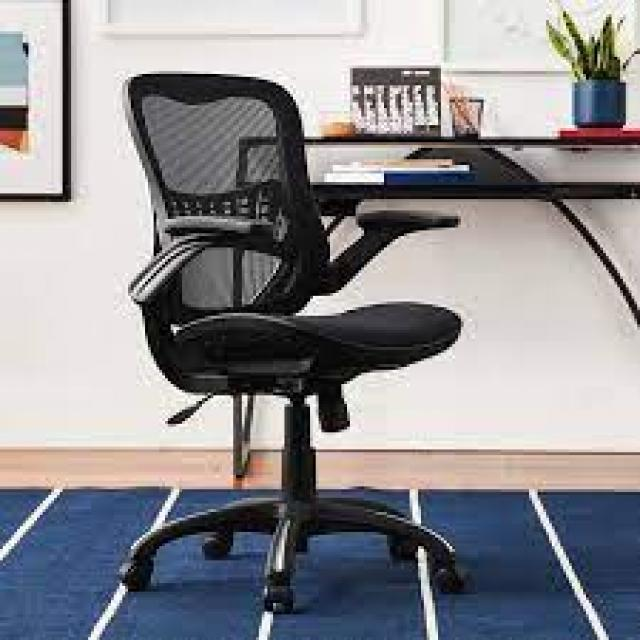chair: (99, 45, 520, 640)
